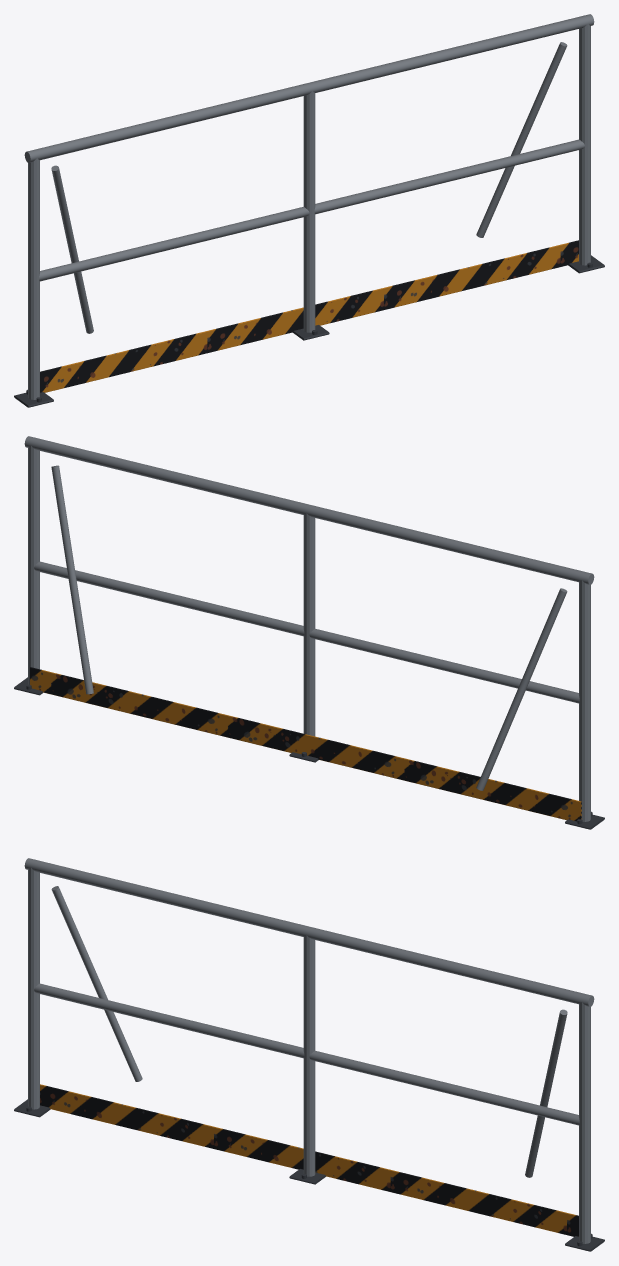
Rendered from foundry_deck_rail_v1.glb.
3 views of the same model, one above another, from view 1: azimuth 30°, elevation 25°; view 2: azimuth 150°, elevation 25°; view 3: azimuth 330°, elevation 25° (orthographic).
Visible parts, largest first — view 1: rail_toe, rail_posts, rail_rail_top, rail_rail_mid, rail_brace_p, rail_brace_n, rail_bases; view 2: rail_toe, rail_posts, rail_rail_top, rail_rail_mid, rail_brace_p, rail_brace_n, rail_bases; view 3: rail_toe, rail_posts, rail_rail_top, rail_rail_mid, rail_brace_n, rail_brace_p, rail_bases.
Part boxes in pixels (x1,y1,x2,y2): rail_toe: (40, 240, 578, 392); rail_posts: (28, 24, 590, 399); rail_rail_top: (24, 14, 594, 162); rail_rail_mid: (39, 139, 584, 281); rail_brace_p: (476, 42, 567, 237); rail_brace_n: (51, 165, 93, 333); rail_bases: (14, 255, 604, 407); rail_toe: (30, 667, 581, 821); rail_posts: (28, 446, 590, 821); rail_rail_top: (24, 436, 594, 584); rail_rail_mid: (34, 561, 579, 703); rail_brace_p: (51, 465, 93, 694); rail_brace_n: (476, 588, 567, 790); rail_bases: (14, 677, 604, 829); rail_toe: (40, 1084, 578, 1236); rail_posts: (28, 868, 590, 1243); rail_rail_top: (24, 858, 594, 1006); rail_rail_mid: (34, 983, 579, 1125); rail_brace_n: (51, 886, 142, 1081); rail_brace_p: (525, 1009, 567, 1177); rail_bases: (14, 1099, 604, 1251).
Bounding box in the file's own units: 2.72 × 1.12 × 0.2756.
Materials: 3 (1 with a texture image).
